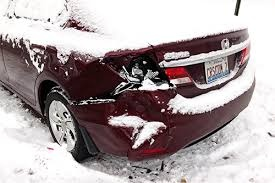Broken-glass: (101, 54, 171, 94)
